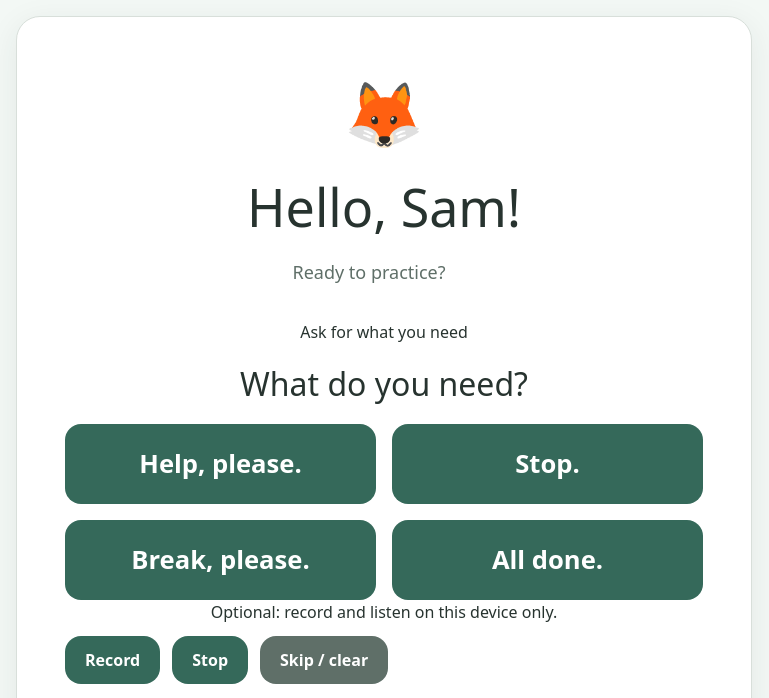
Test: child independent practice › honors Break, please. immediately without penalties
Click the button "Break, please." at (220, 560), box 65,520 -> 376,600
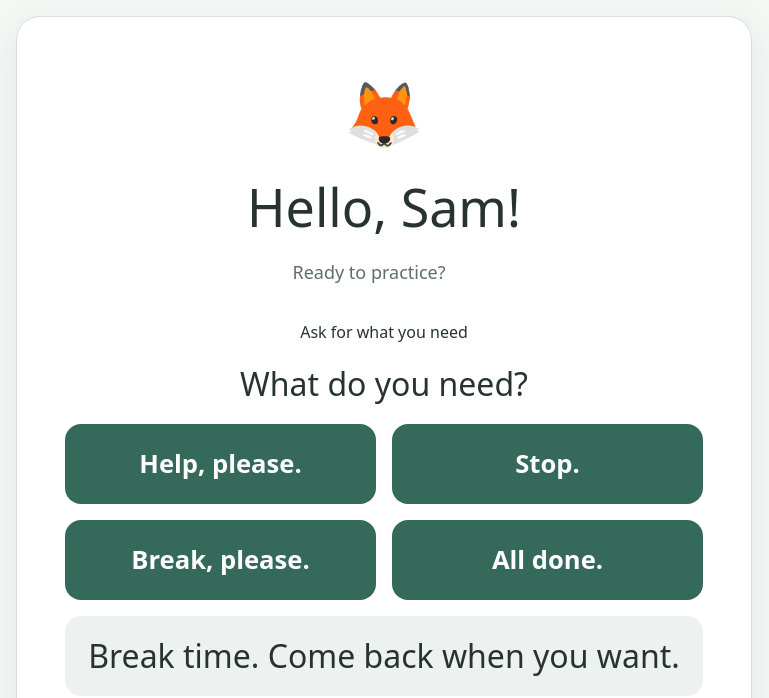
Now the message reads "Break time. Come back when you want.", box 88,634 -> 680,677
